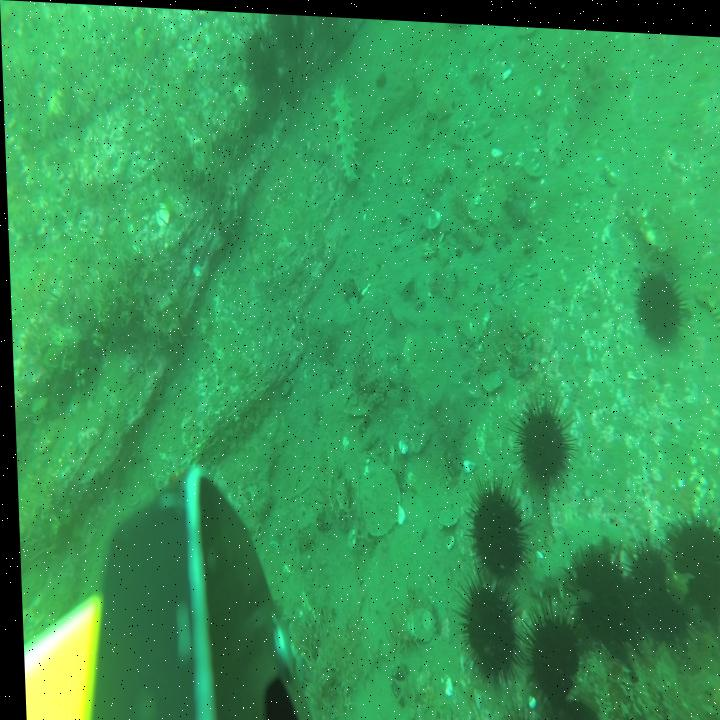echinus: (446, 555, 522, 691), (618, 525, 692, 653), (559, 536, 633, 661), (459, 466, 531, 586), (513, 588, 581, 713), (655, 502, 720, 624), (505, 385, 576, 492), (628, 259, 688, 346), (237, 12, 281, 94), (484, 689, 542, 720), (530, 694, 590, 720), (271, 11, 308, 52), (418, 699, 480, 720)
holothurian: (329, 73, 361, 182), (693, 272, 720, 353)
scallop: (358, 456, 398, 535), (401, 601, 431, 640), (424, 80, 454, 116), (432, 499, 456, 524)
